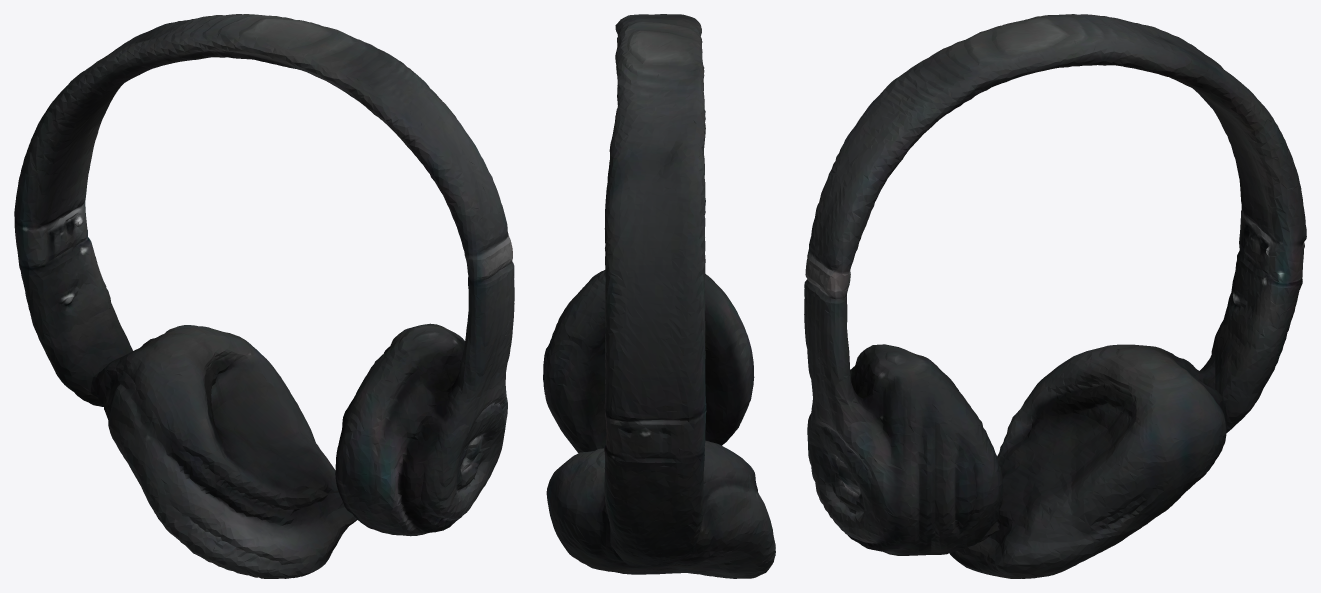
The model's file is noise-cancelling-headphones.glb.
3 views of the same model, side by side, from view 1: azimuth 30°, elevation 25°; view 2: azimuth 150°, elevation 25°; view 3: azimuth 270°, elevation 25° (orthographic). The views are drawn at different scales.
Visible parts, largest first — view 1: geometry_0; view 2: geometry_0; view 3: geometry_0.
Boxes of the visible parts, x1=… form: geometry_0: x1=14, y1=14, x2=514, y2=578; geometry_0: x1=543, y1=14, x2=775, y2=578; geometry_0: x1=804, y1=14, x2=1306, y2=578.
Bounding box in the file's own units: 0.6207 × 1.01 × 0.8571.
Materials: 1 (1 with a texture image).
